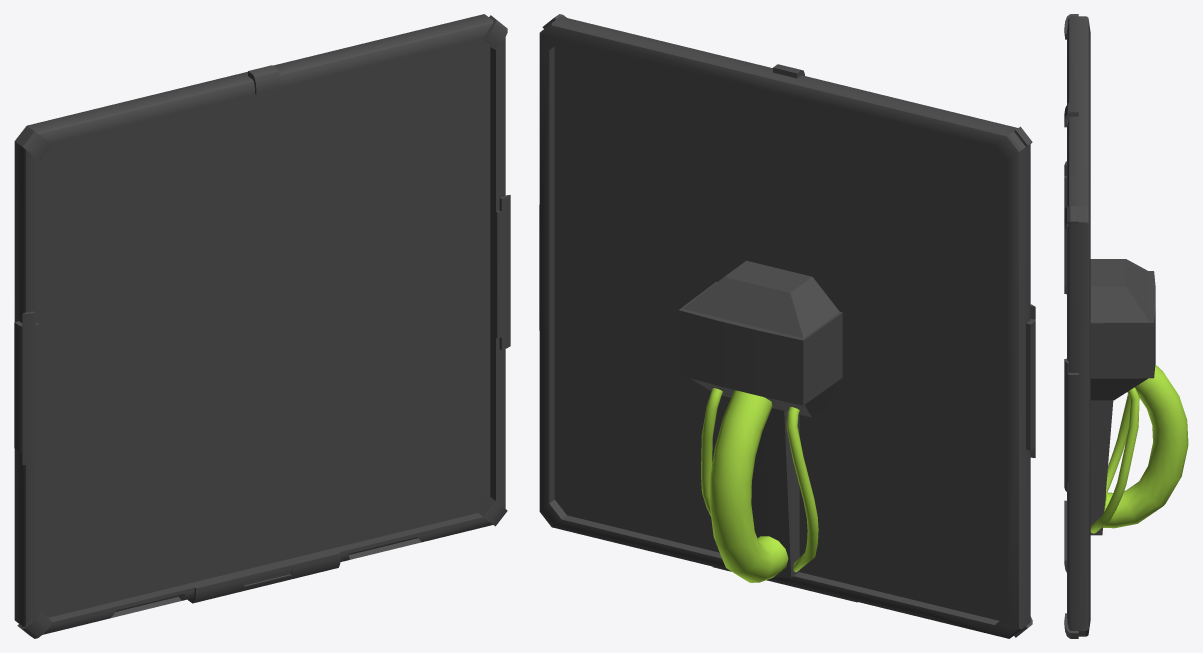
Rendered from mod_Wallrun.fbx.
3 renders of one model, left to right at view 1: azimuth 30°, elevation 25°; view 2: azimuth 150°, elevation 25°; view 3: azimuth 270°, elevation 25°, orthographic. The views are drawn at different scales.
Visible parts, largest first — view 1: mod_wallrun_1x1, mod_wallFram, mod_wallDetails; view 2: mod_backplane, mod_wallFram, mod_backWall, mod_energybezier, mod_energybezier.001, mod_wallDetails; view 3: mod_wallFram, mod_backWall, mod_energybezier, mod_wallDetails, mod_energybezier.001.
Boxes of the visible parts, <box> form: mod_wallrun_1x1: <box>33,32,490,618</box>; mod_wallFram: <box>14,14,505,634</box>; mod_wallDetails: <box>14,15,510,638</box>; mod_backplane: <box>554,40,1006,620</box>; mod_wallFram: <box>539,16,1030,638</box>; mod_backWall: <box>678,260,842,577</box>; mod_energybezier: <box>709,390,788,582</box>; mod_energybezier.001: <box>701,388,818,572</box>; mod_wallDetails: <box>539,14,1035,637</box>; mod_wallFram: <box>1067,16,1090,636</box>; mod_backWall: <box>1090,259,1155,535</box>; mod_energybezier: <box>1103,364,1188,528</box>; mod_wallDetails: <box>1064,14,1078,638</box>; mod_energybezier.001: <box>1090,387,1139,533</box>.
Bounding box in the file's own units: 408 × 408 × 105.
